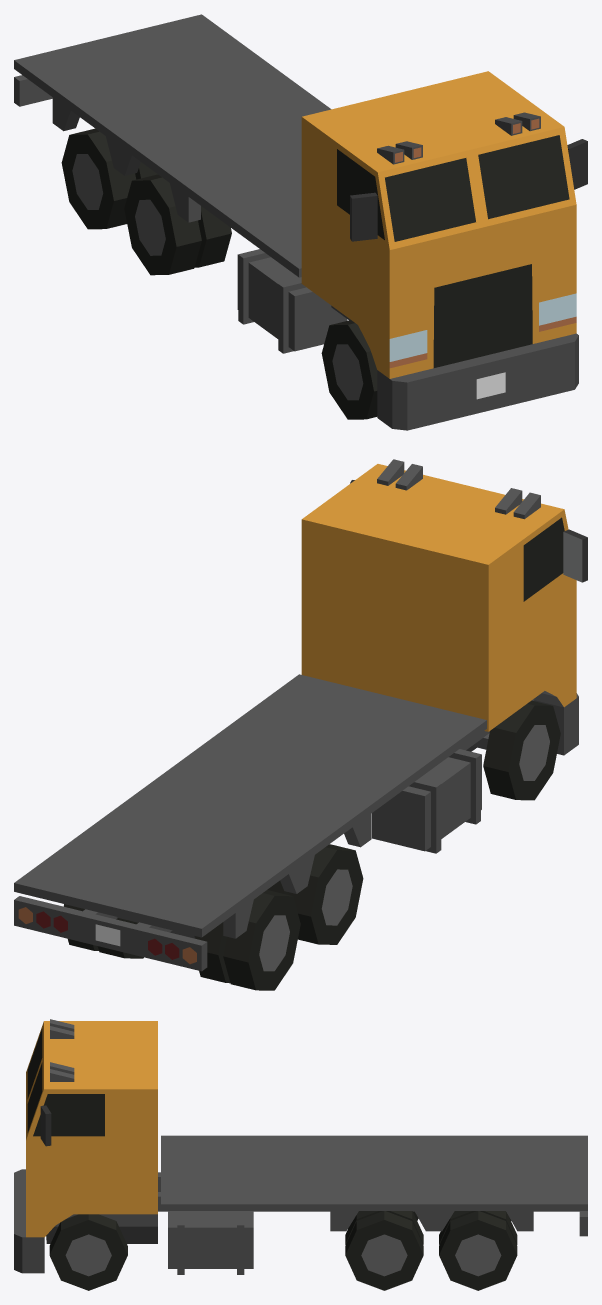
Rendered from Veh_Truck_03_Flat_Yellow.glb.
3 renders of one model, top to bottom at view 1: azimuth 30°, elevation 25°; view 2: azimuth 150°, elevation 25°; view 3: azimuth 270°, elevation 25°, orthographic. The views are drawn at different scales.
Visible parts, largest first — view 1: Truck_03_Yellow, Wheel_RR1, Wheel_RR2, Wheel_FR; view 2: Truck_03_Yellow, Wheel_RR2, Wheel_FR, Wheel_RR1; view 3: Truck_03_Yellow, Wheel_RL1, Wheel_RL2, Wheel_FL.
Boxes of the visible parts, left/top/right/bottom form: Truck_03_Yellow: left=14, top=14, right=587, bottom=430; Wheel_RR1: left=124, top=174, right=231, bottom=275; Wheel_RR2: left=61, top=128, right=157, bottom=229; Wheel_FR: left=321, top=320, right=377, bottom=419; Truck_03_Yellow: left=14, top=459, right=587, bottom=971; Wheel_RR2: left=195, top=890, right=300, bottom=990; Wheel_FR: left=483, top=700, right=560, bottom=800; Wheel_RR1: left=267, top=844, right=363, bottom=944; Truck_03_Yellow: left=14, top=1019, right=587, bottom=1274; Wheel_RL1: left=345, top=1211, right=423, bottom=1290; Wheel_RL2: left=439, top=1211, right=517, bottom=1290; Wheel_FL: left=49, top=1214, right=127, bottom=1290.
Bounding box in the file's own units: 1.68 × 1.92 × 4.74.
1 material, 1 textured.
